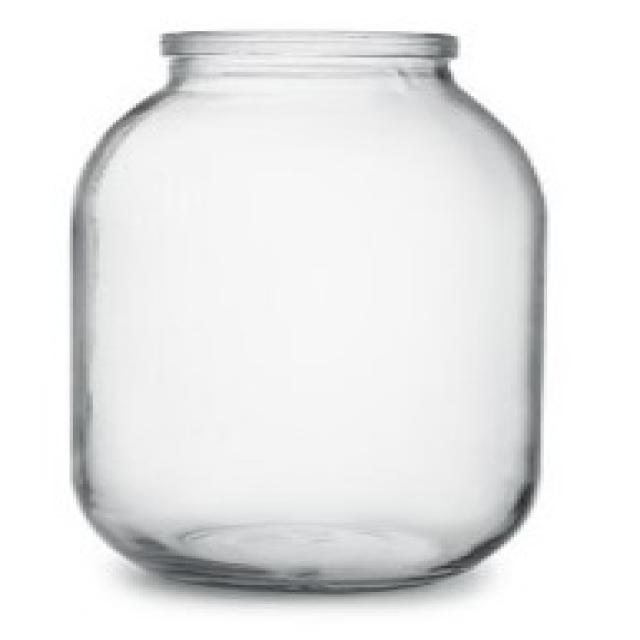electronic: (65, 29, 548, 597)
